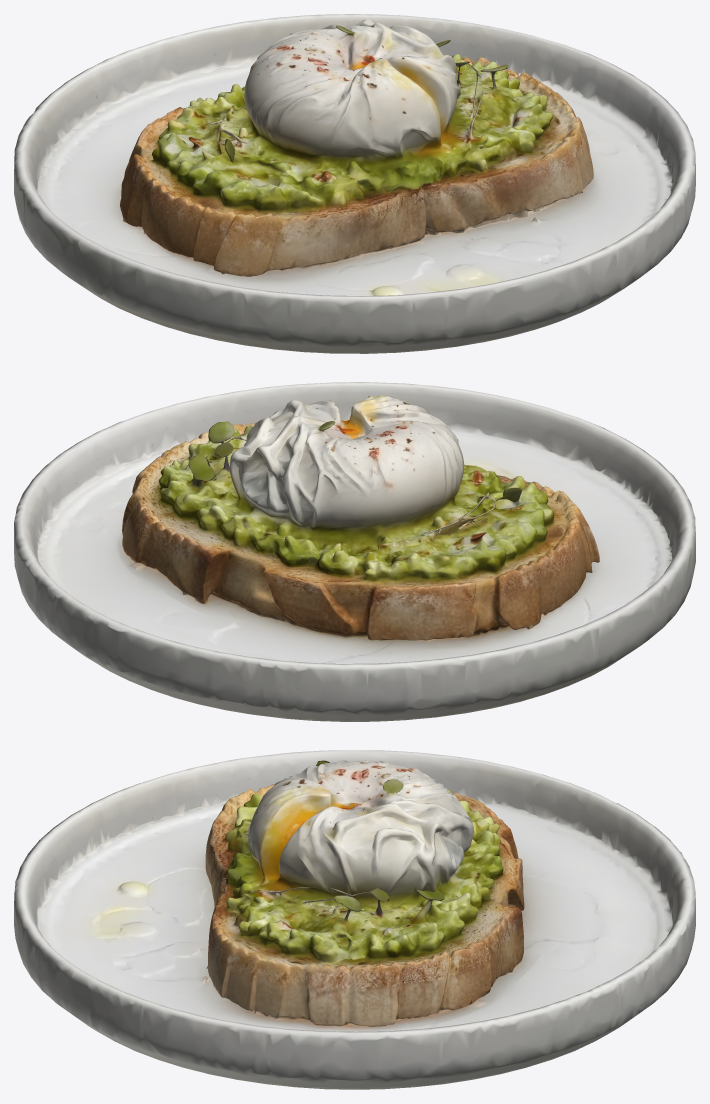
Rendered from avocado+toast+3d+model (1).glb.
3 renders of one model, top to bottom at view 1: azimuth 30°, elevation 25°; view 2: azimuth 150°, elevation 25°; view 3: azimuth 270°, elevation 25°, orthographic.
Visible parts, largest first — view 1: tripo_node_4213e0b9-7b00-44fd-8f61-259448fc168a; view 2: tripo_node_4213e0b9-7b00-44fd-8f61-259448fc168a; view 3: tripo_node_4213e0b9-7b00-44fd-8f61-259448fc168a.
Part boxes in pixels (x1,y1,x2,y2): tripo_node_4213e0b9-7b00-44fd-8f61-259448fc168a: (14, 14, 695, 353); tripo_node_4213e0b9-7b00-44fd-8f61-259448fc168a: (14, 382, 695, 721); tripo_node_4213e0b9-7b00-44fd-8f61-259448fc168a: (14, 750, 695, 1089).
Size of the model in its own units: 1 by 0.2984 by 1.
Materials: 1 (1 with a texture image).
